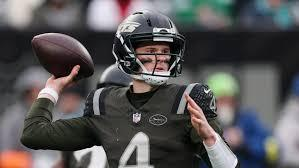americanFootball: (31, 32, 95, 80)
